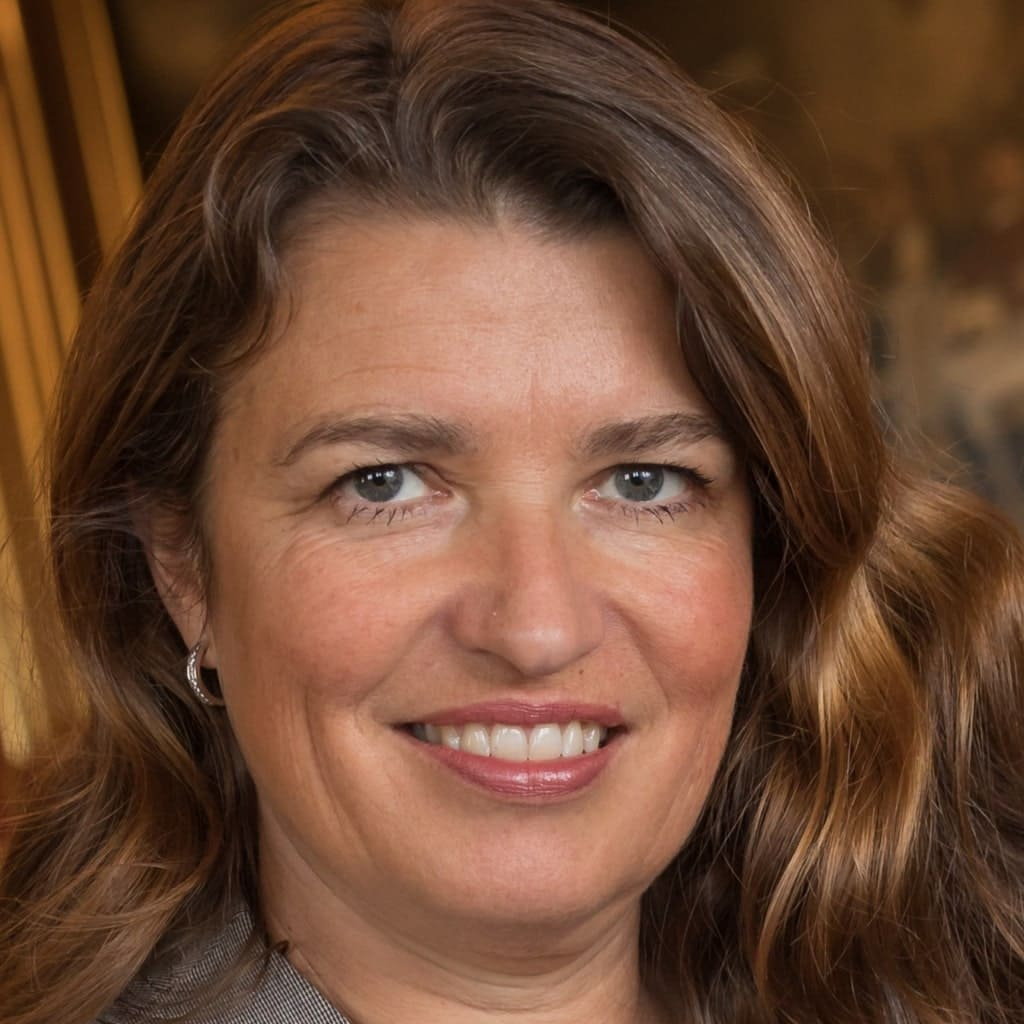without_mask: (257, 281, 739, 865)
